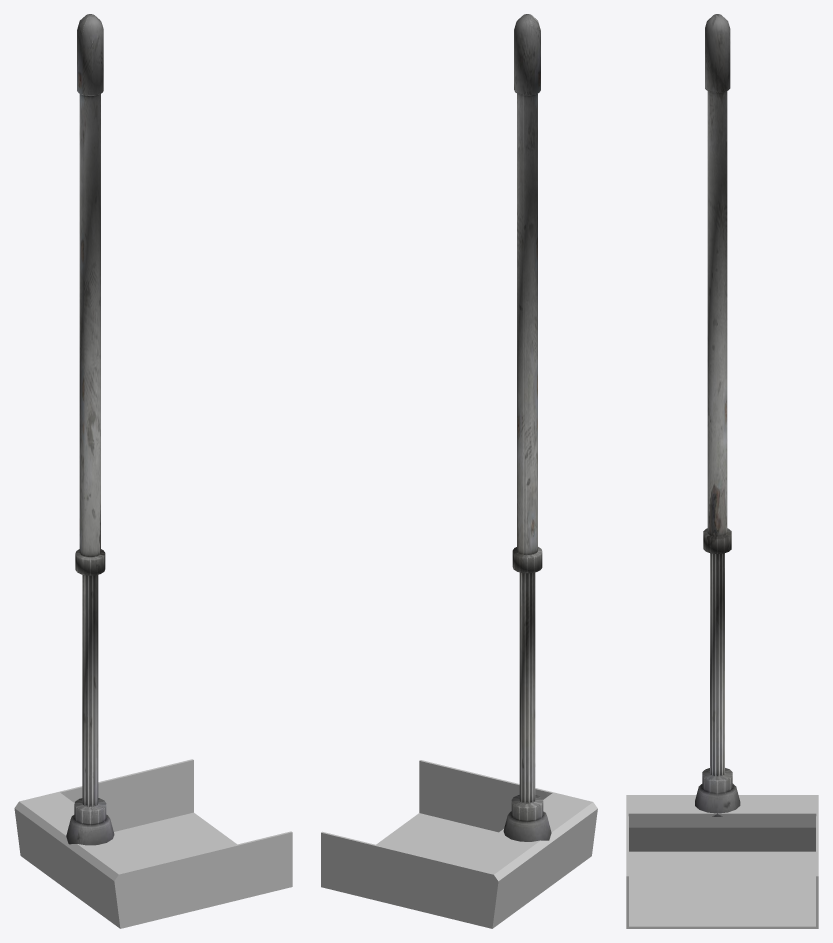
The model's file is pod2.fbx.
3 renders of one model, left to right at view 1: azimuth 30°, elevation 25°; view 2: azimuth 150°, elevation 25°; view 3: azimuth 270°, elevation 25°, orthographic. The views are drawn at different scales.
Visible parts, largest first — view 1: Box002, Box001; view 2: Box002, Box001; view 3: Box002, Box001.
Boxes of the visible parts, x1,y1,x2,y2 form: Box002: [14, 759, 292, 928]; Box001: [66, 14, 114, 845]; Box002: [321, 760, 597, 928]; Box001: [503, 14, 551, 841]; Box002: [626, 795, 818, 928]; Box001: [695, 14, 740, 816].
Size of the model in its own units: 85.27 by 400 by 82.79.
